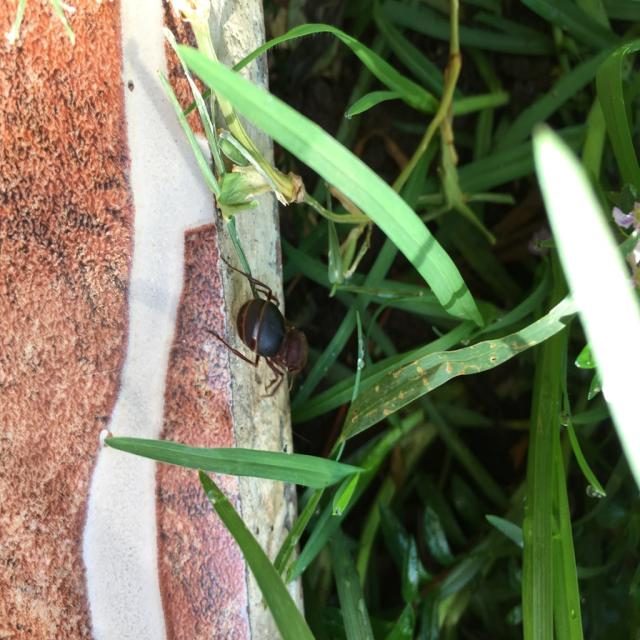Alive-Female-Dealate: (206, 255, 308, 398)
